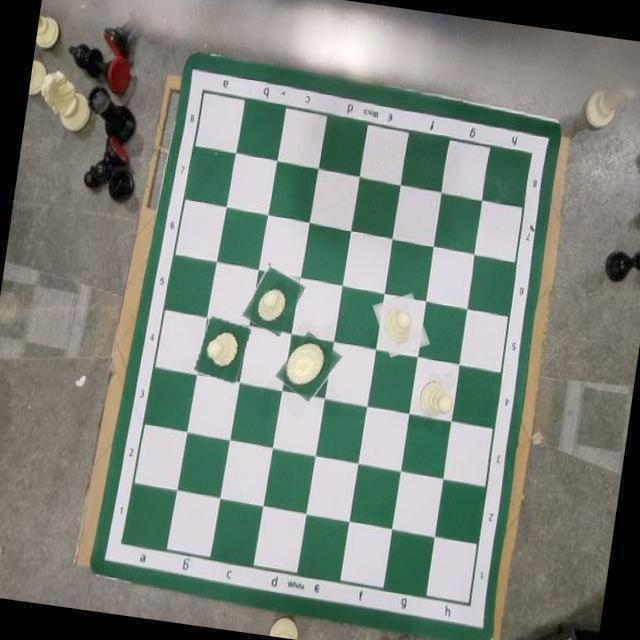chess-table-corners: (516, 132, 545, 179), (110, 519, 139, 559), (454, 590, 481, 622), (190, 80, 213, 104)
